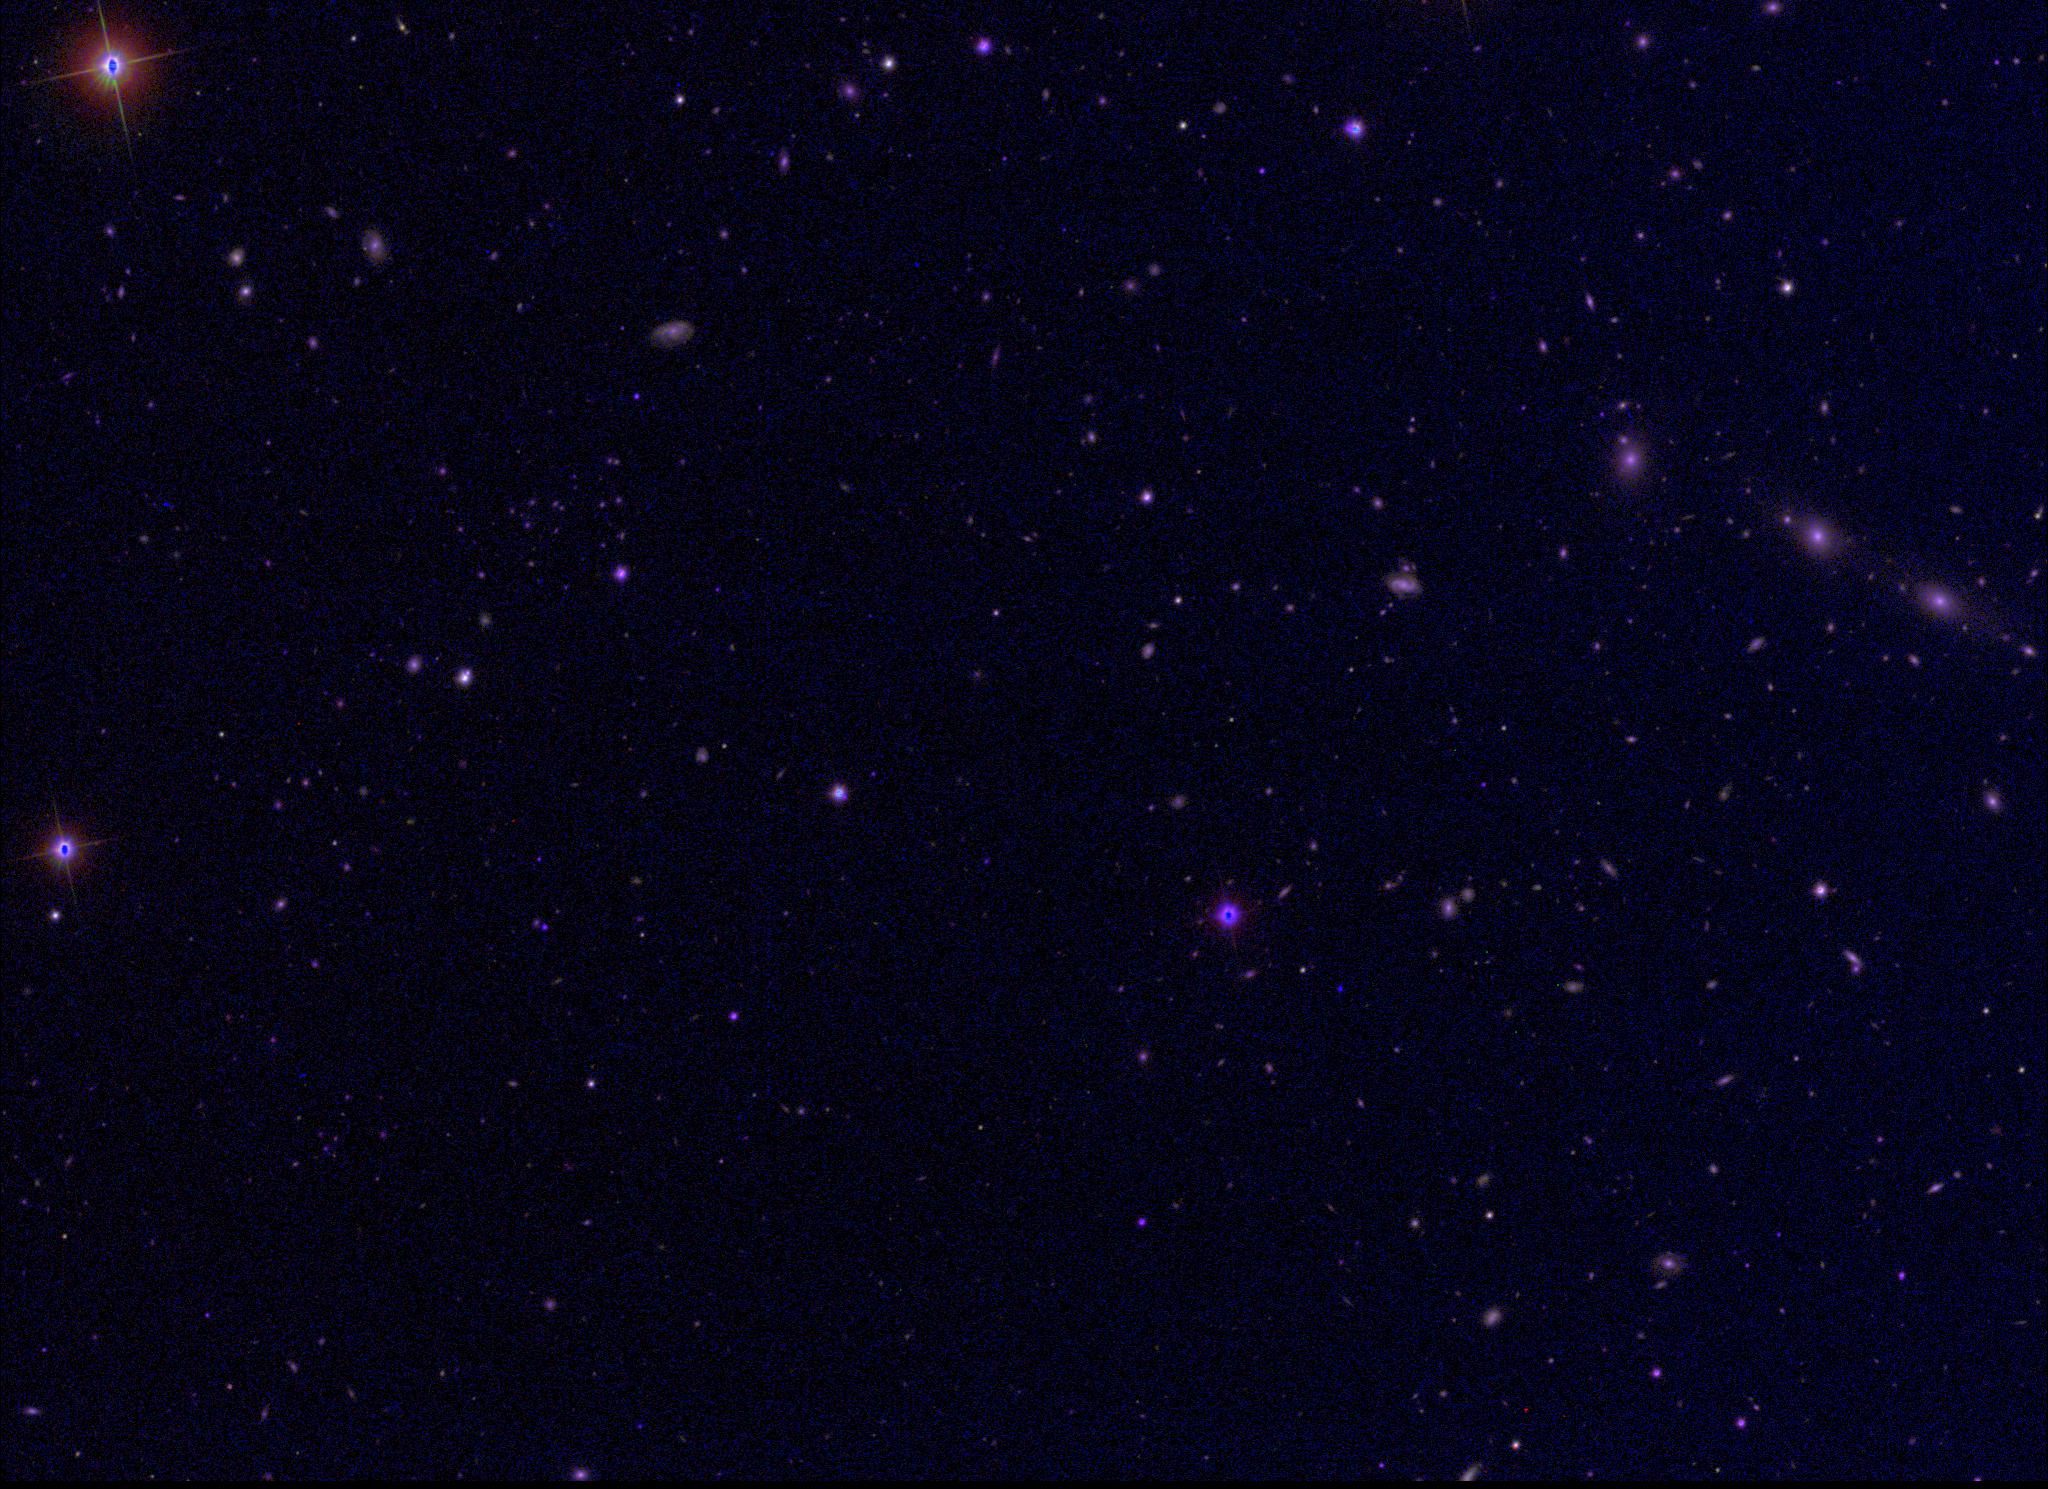L: (1331, 982, 1345, 994)
